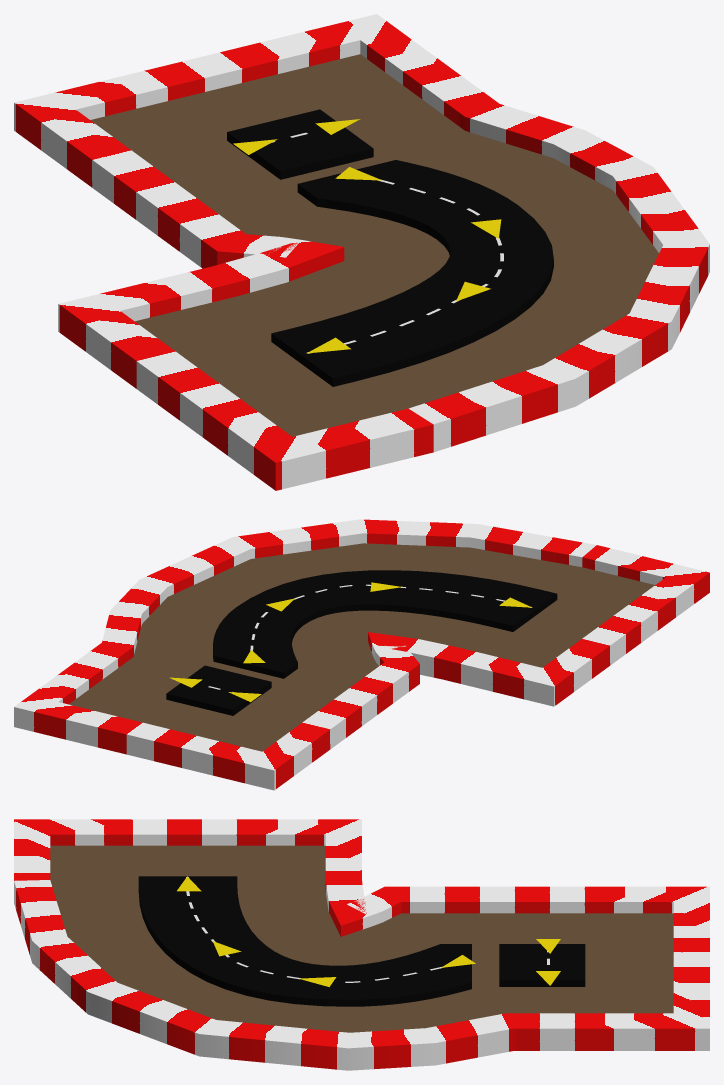
The model's file is zain.FBX.
The picture shows the model from 3 angles, top to bottom: view 1: azimuth 30°, elevation 25°; view 2: azimuth 150°, elevation 25°; view 3: azimuth 270°, elevation 25°; orthographic projection. The views are drawn at different scales.
Parts seen in each view (by area): view 1: zain_coll, zain_floor, zain; view 2: zain_coll, zain_floor, zain; view 3: zain_coll, zain_floor, zain.
Part boxes in pixels (<box>): zain_coll: <box>14,14,709,490</box>; zain_floor: <box>90,54,658,436</box>; zain: <box>227,109,553,386</box>; zain_coll: <box>14,519,709,790</box>; zain_floor: <box>69,543,654,751</box>; zain: <box>166,570,557,715</box>; zain_coll: <box>14,819,709,1070</box>; zain_floor: <box>50,845,673,1032</box>; zain: <box>138,876,585,1006</box>.
Size of the model in its own units: 718 by 32.76 by 922.
